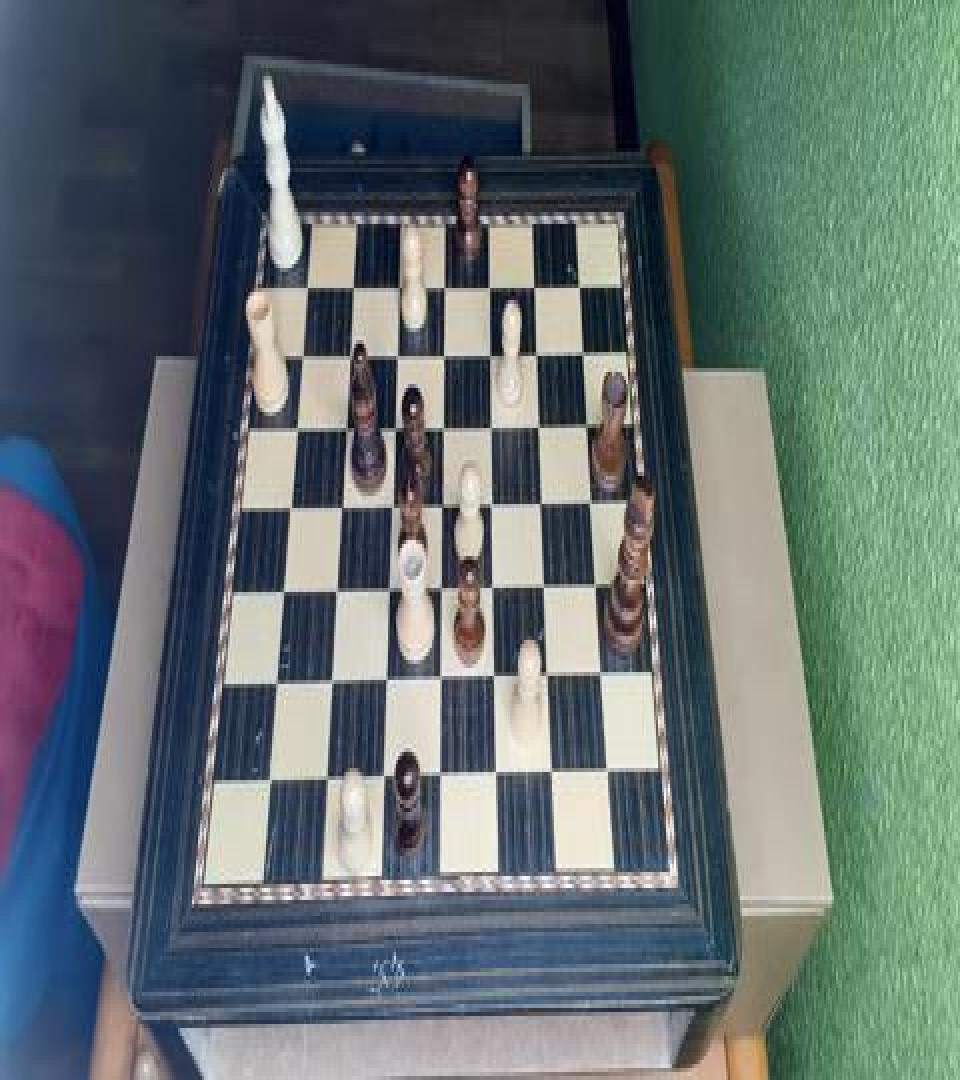xcorner: (573, 262, 587, 290), (528, 262, 542, 290), (483, 262, 497, 290), (438, 262, 452, 290), (392, 264, 406, 292), (346, 264, 360, 292), (300, 264, 314, 292), (577, 330, 591, 358), (531, 330, 545, 358), (484, 330, 498, 358), (437, 332, 451, 360), (390, 332, 404, 360), (342, 332, 356, 360), (295, 334, 309, 362), (581, 402, 595, 430), (533, 402, 547, 430), (485, 404, 499, 432), (436, 404, 450, 432), (387, 406, 401, 434), (338, 406, 352, 434), (289, 408, 303, 436), (586, 480, 600, 508), (536, 482, 550, 510), (485, 482, 499, 510), (435, 484, 449, 512), (384, 484, 398, 512), (333, 486, 347, 514), (282, 486, 296, 514), (590, 564, 604, 592), (538, 566, 552, 594), (486, 566, 500, 594), (434, 568, 448, 596), (381, 570, 395, 598), (329, 570, 343, 598), (275, 572, 289, 600), (595, 656, 609, 684), (541, 656, 555, 684), (487, 658, 501, 686), (433, 660, 447, 688), (378, 662, 392, 690), (323, 664, 337, 692), (268, 664, 282, 692), (601, 754, 615, 782), (545, 756, 559, 784), (488, 758, 502, 786), (432, 760, 446, 788), (375, 762, 389, 790), (317, 764, 331, 792), (260, 764, 274, 792)
